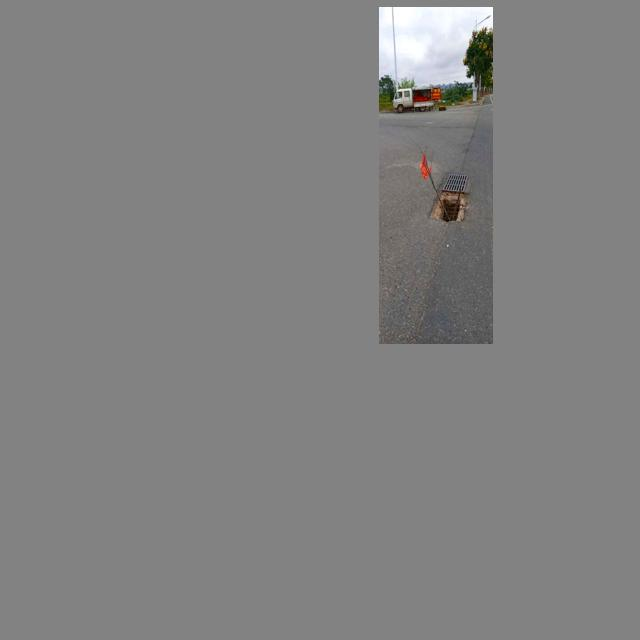lose: (420, 158, 478, 233)
